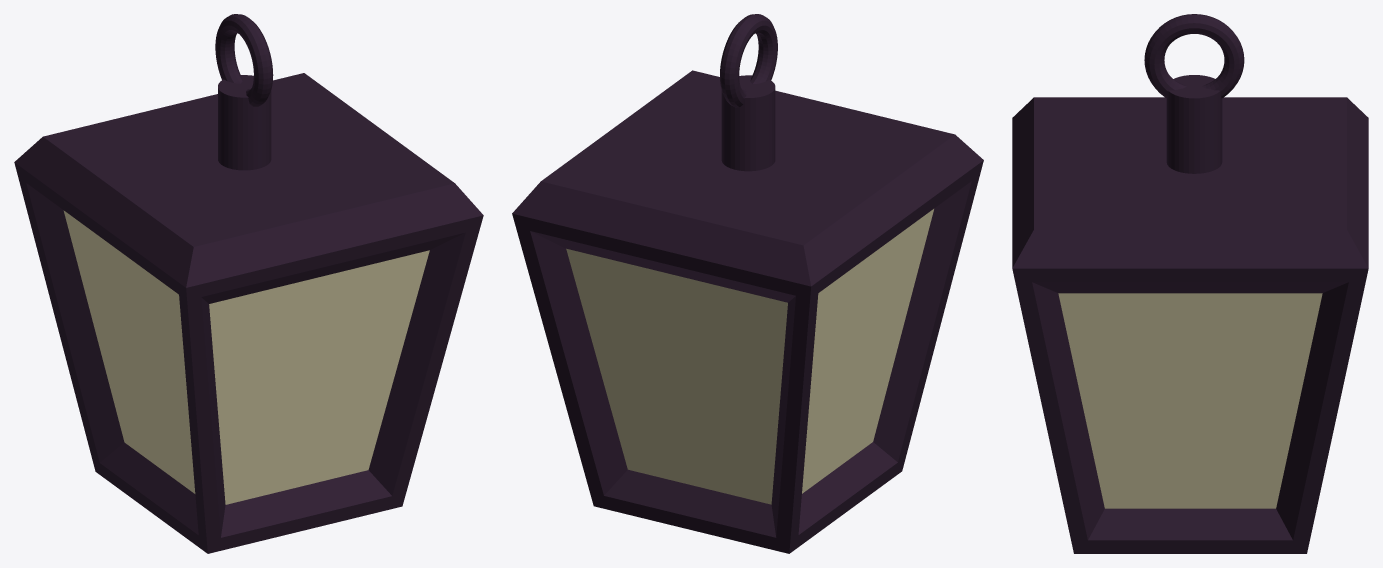
Rendered from LANTERN.fbx.
The picture shows the model from 3 angles, left to right: view 1: azimuth 30°, elevation 25°; view 2: azimuth 150°, elevation 25°; view 3: azimuth 270°, elevation 25°; orthographic projection. The views are drawn at different scales.
Parts seen in each view (by area): view 1: Cube; view 2: Cube; view 3: Cube.
Boxes of the visible parts, left/top/right/bottom form: Cube: left=14, top=14, right=483, bottom=553; Cube: left=512, top=14, right=983, bottom=553; Cube: left=1012, top=14, right=1368, bottom=553.
Bounding box in the file's own units: 306 × 463 × 306.
